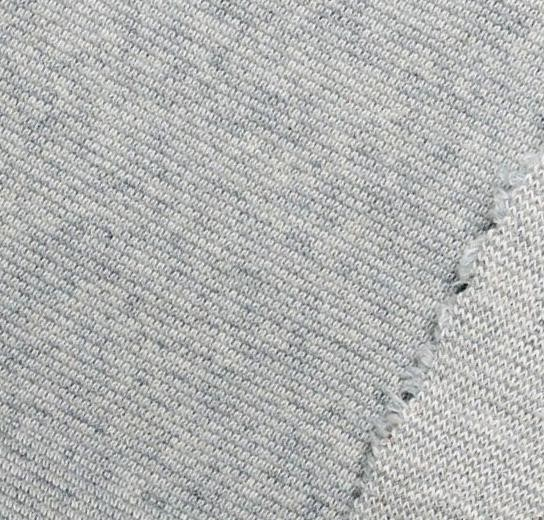slub: (338, 148, 544, 520)
